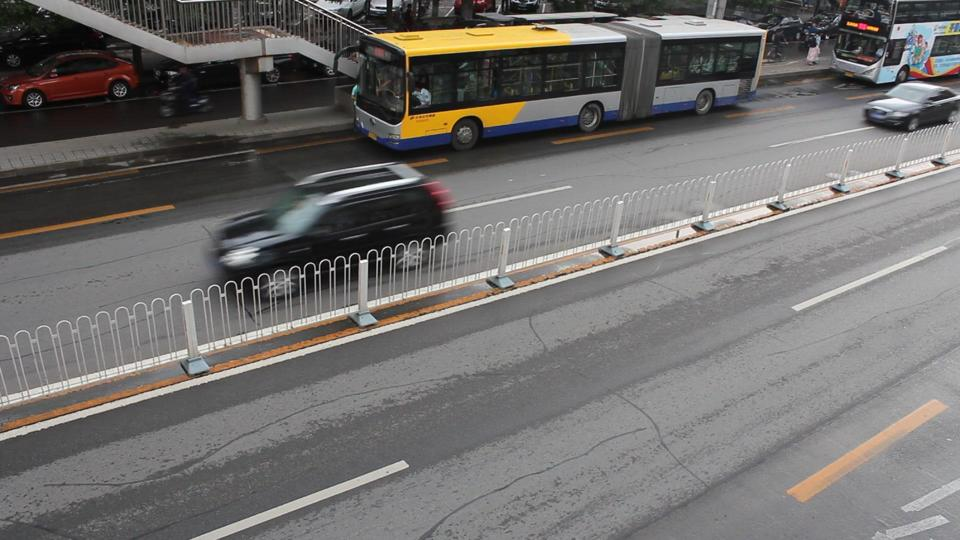Bus: (358, 16, 766, 143), (834, 1, 960, 81)
Car: (213, 160, 443, 295), (1, 51, 140, 110), (154, 37, 289, 88), (308, 26, 407, 80), (434, 20, 543, 69), (862, 80, 960, 133)
